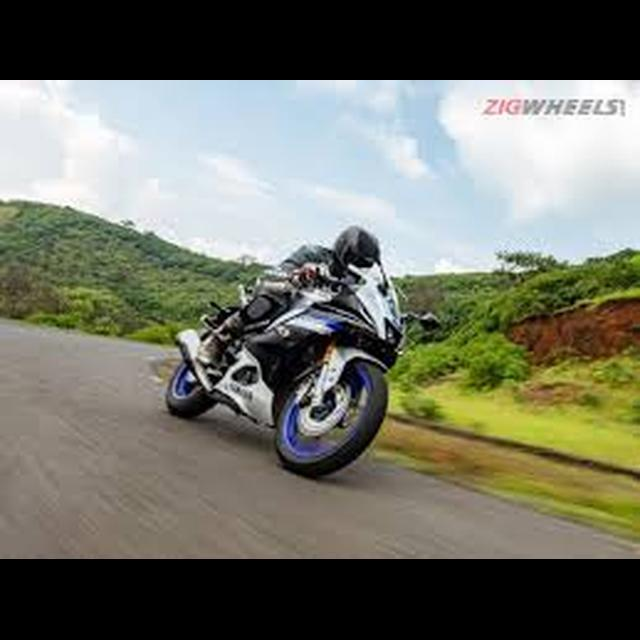motorcycle: (161, 257, 449, 478)
